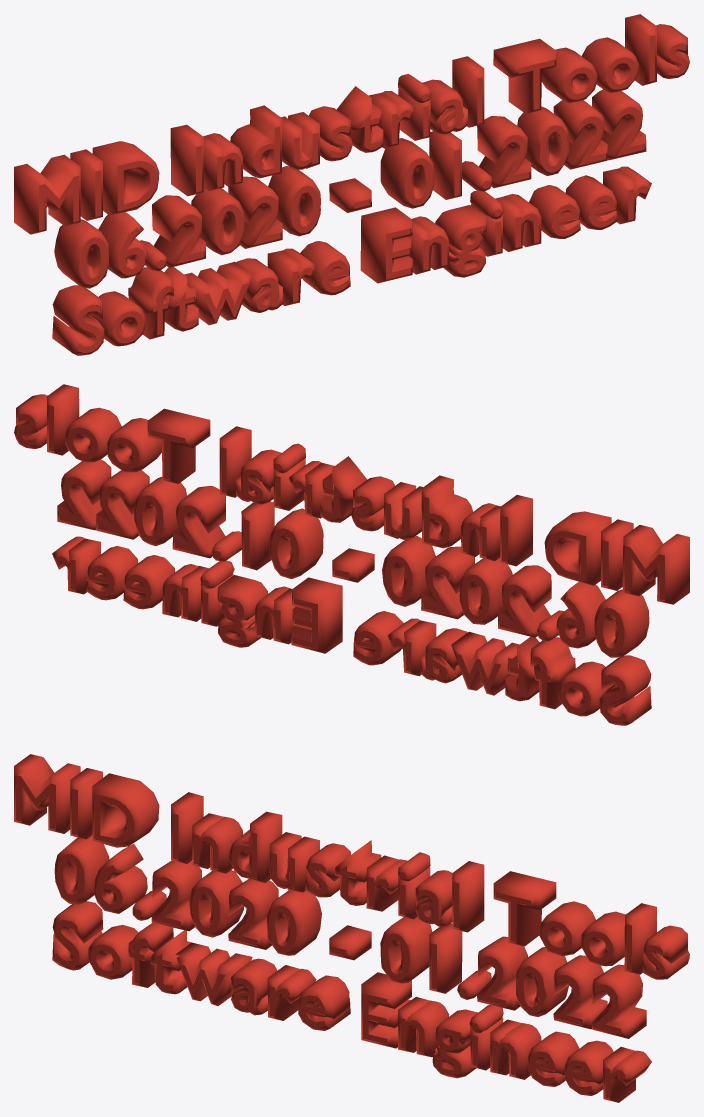
File: experience-MID.glb
3 views of the same model, one above another, from view 1: azimuth 30°, elevation 25°; view 2: azimuth 150°, elevation 25°; view 3: azimuth 330°, elevation 25° (orthographic).
Visible parts, largest first — view 1: Text.003; view 2: Text.003; view 3: Text.003.
Boxes of the visible parts, x1,y1,x2,y2 form: Text.003: [14, 14, 689, 355]; Text.003: [14, 384, 689, 725]; Text.003: [14, 754, 689, 1102].
Size of the model in its own units: 1.43 by 0.4237 by 0.0898.
